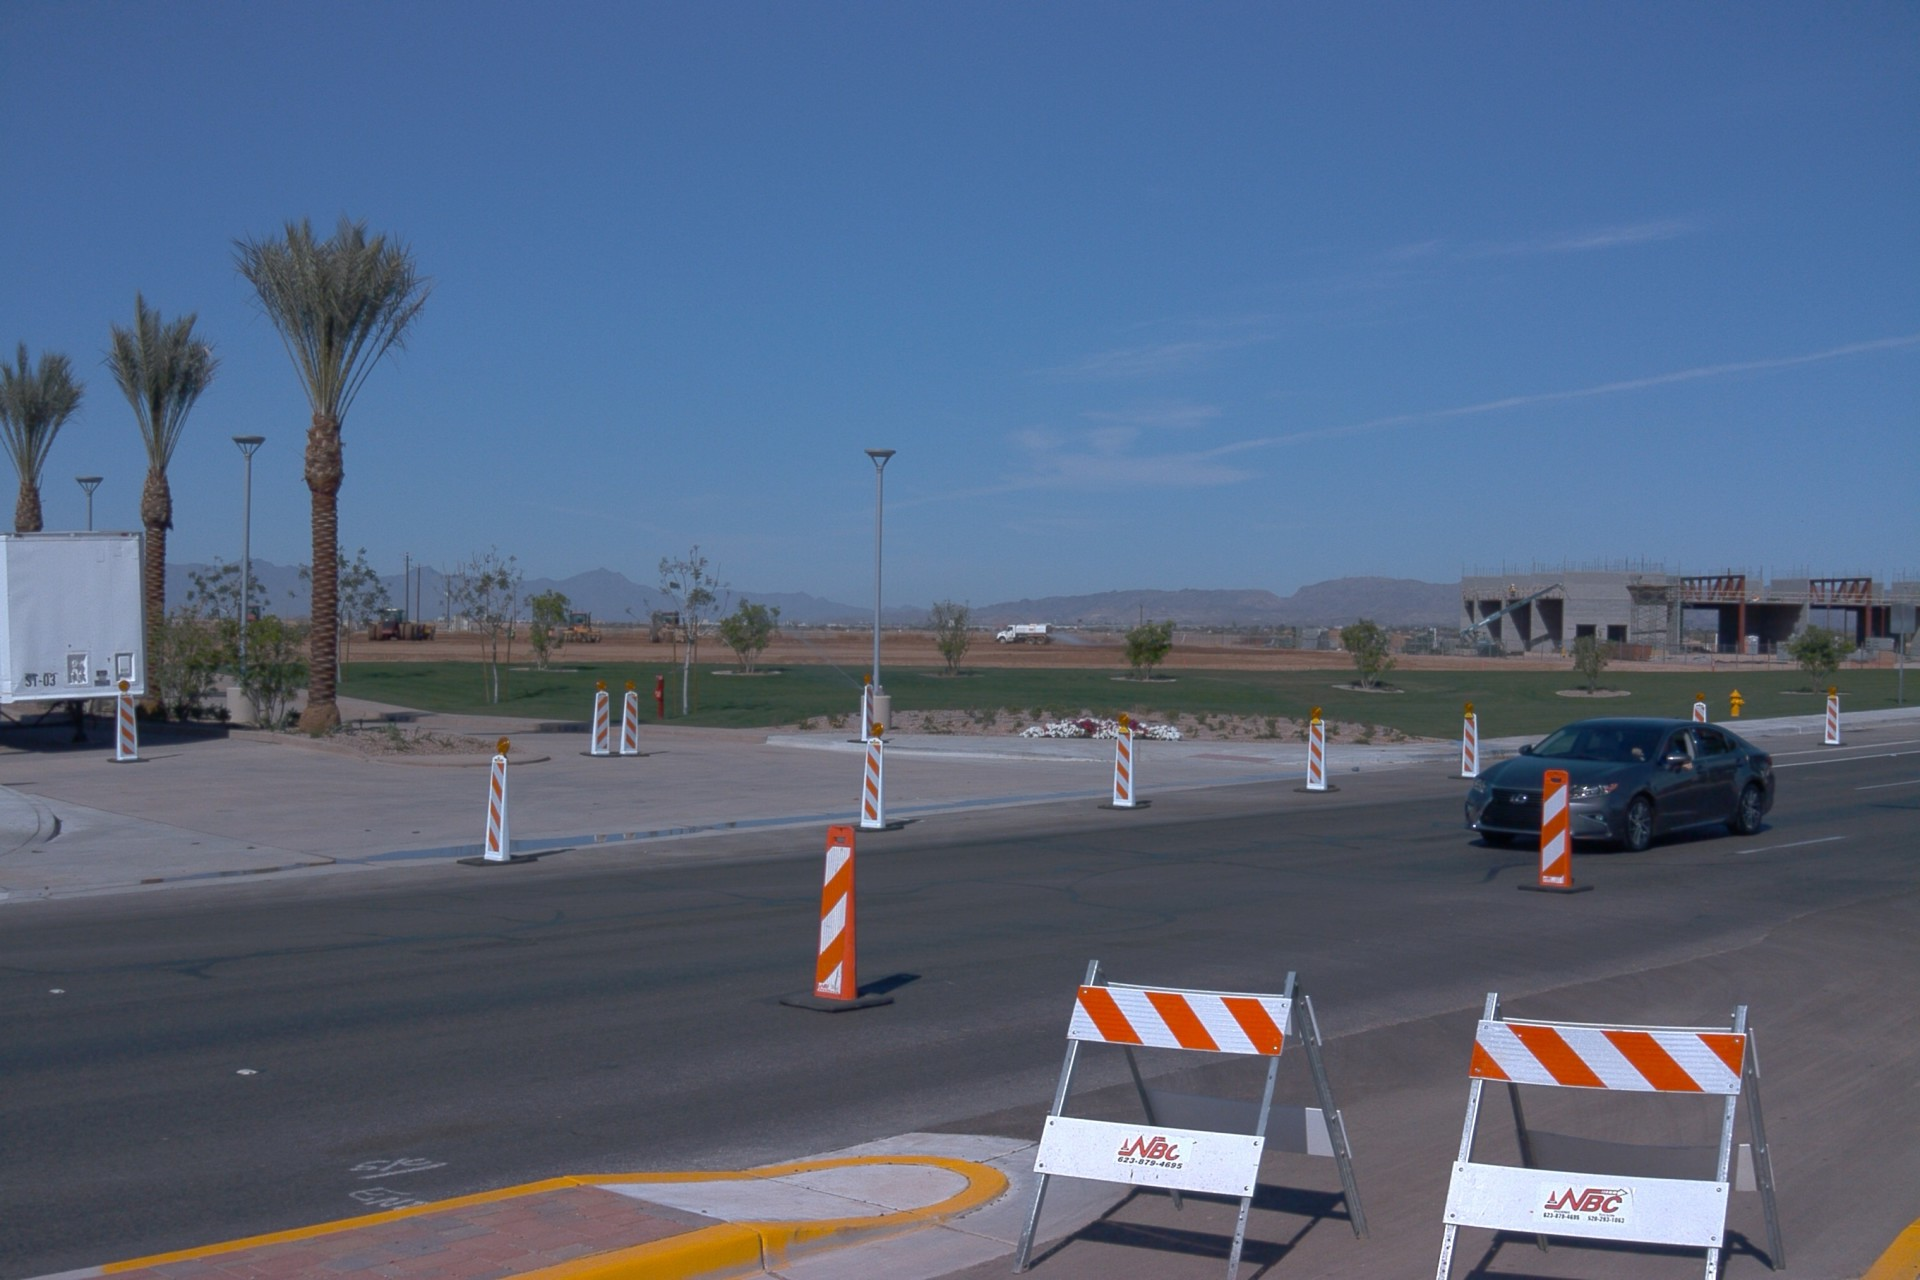TYPE_PEDESTRIAN: (545, 626, 559, 648), (511, 628, 517, 643)
TYPE_VEHICLE: (1462, 715, 1778, 853), (0, 528, 153, 726), (1458, 584, 1568, 650), (368, 608, 437, 646), (991, 624, 1053, 646), (248, 605, 263, 627), (337, 614, 348, 638)
